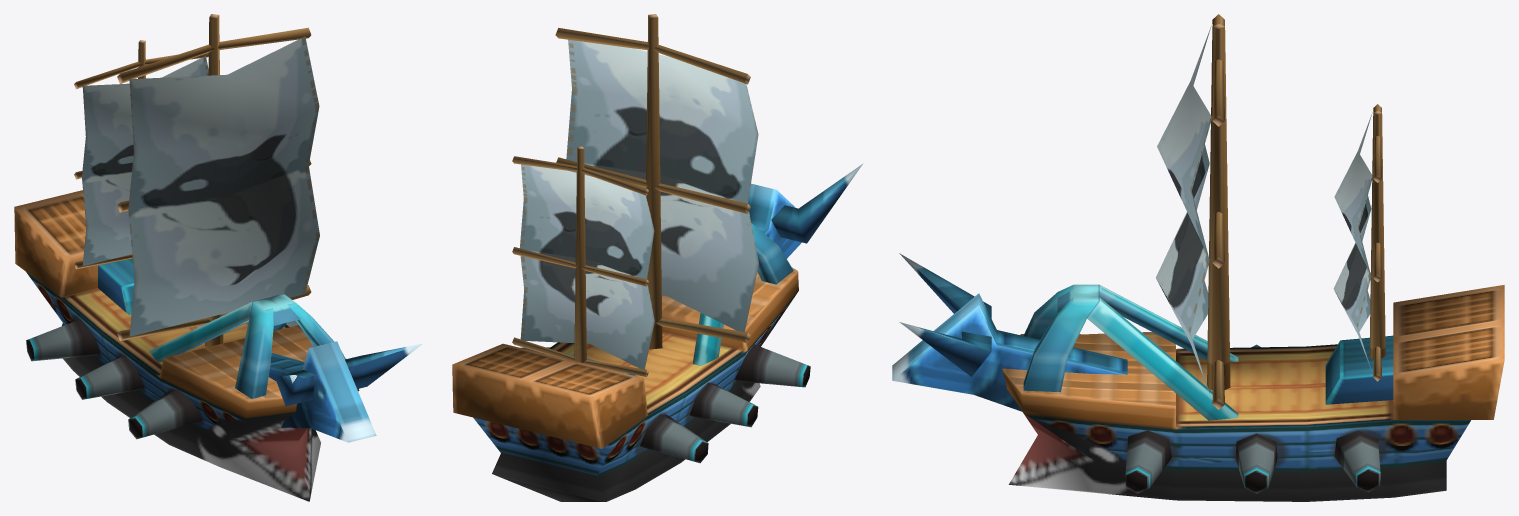
File: hhjh.FBX
The picture shows the model from 3 angles, left to right: view 1: azimuth 30°, elevation 25°; view 2: azimuth 150°, elevation 25°; view 3: azimuth 270°, elevation 25°; orthographic projection. The views are drawn at different scales.
Parts seen in each view (by area): view 1: hhjh; view 2: hhjh; view 3: hhjh.
Boxes of the visible parts, x1=… form: hhjh: x1=14, y1=14, x2=422, y2=501; hhjh: x1=452, y1=14, x2=863, y2=501; hhjh: x1=892, y1=14, x2=1504, y2=501.
Bounding box in the file's own units: 86.98 × 147 × 178.
